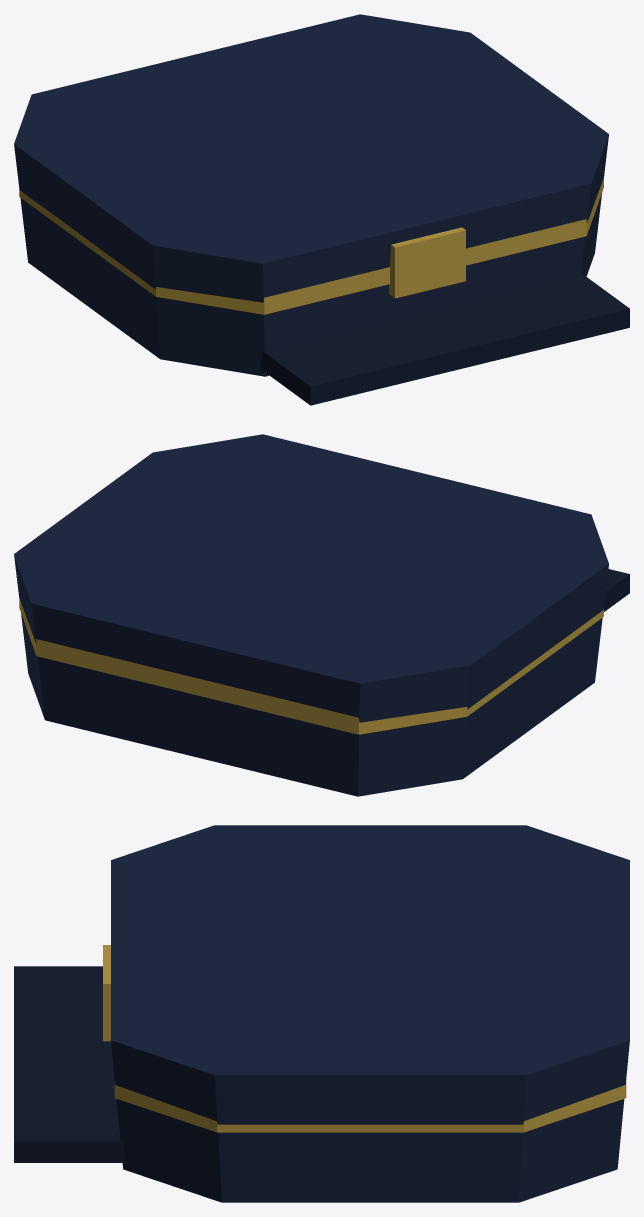
File: conductor.glb
3 views of the same model, one above another, from view 1: azimuth 30°, elevation 25°; view 2: azimuth 150°, elevation 25°; view 3: azimuth 270°, elevation 25° (orthographic). The views are drawn at different scales.
Parts seen in each view (by area): view 1: Conductor Cap.002; view 2: Conductor Cap.002; view 3: Conductor Cap.002.
Part boxes in pixels (x1,y1,x2,y2): Conductor Cap.002: (14,14,629,405); Conductor Cap.002: (14,434,629,796); Conductor Cap.002: (14,825,629,1202).
Bounding box in the file's own units: 0.6915 × 0.1722 × 0.72.
